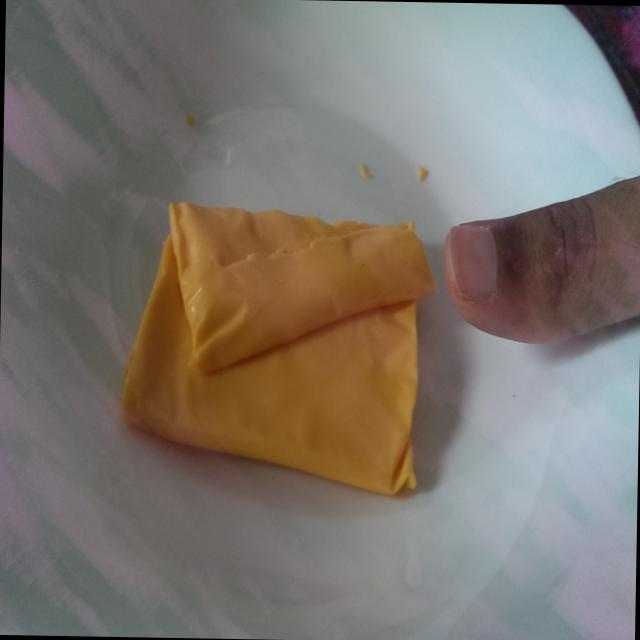Cheese: (109, 196, 437, 520)
Finger: (432, 177, 604, 360)
